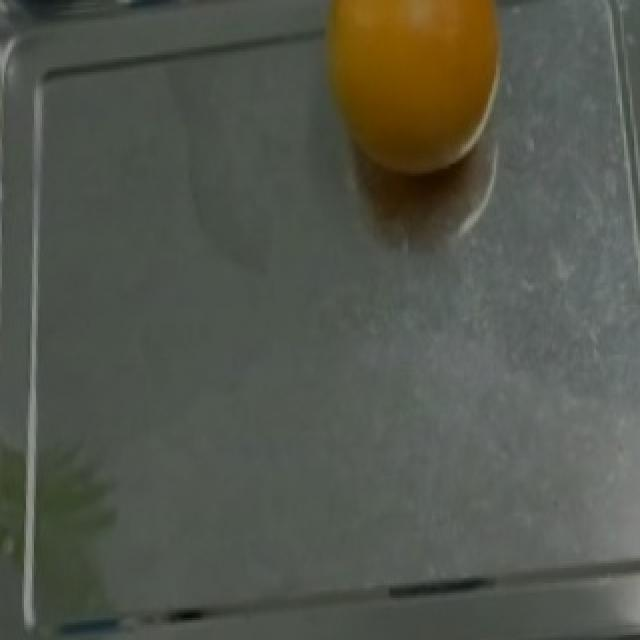Fruit: (294, 0, 514, 193)
